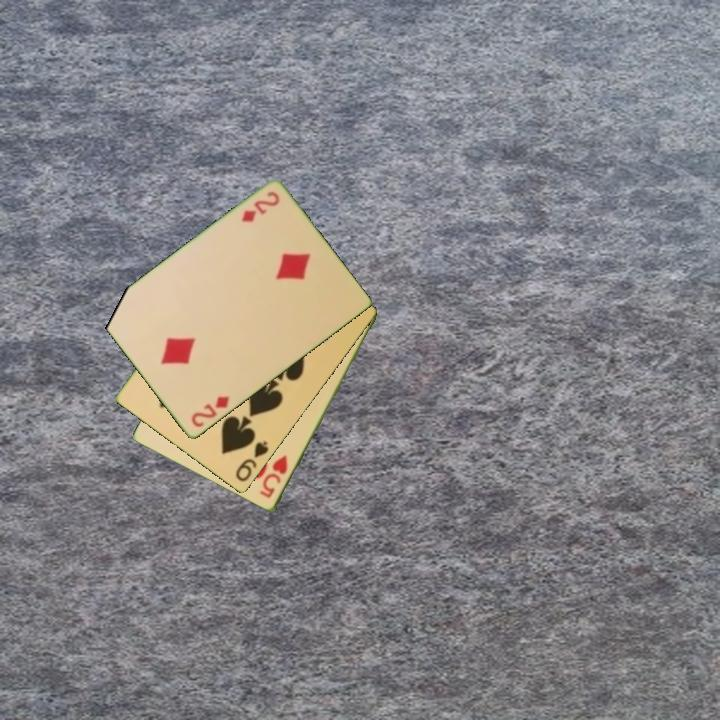2d: (188, 393, 232, 431), (238, 188, 282, 226)
5h: (256, 451, 291, 502)
9s: (232, 438, 272, 485)
